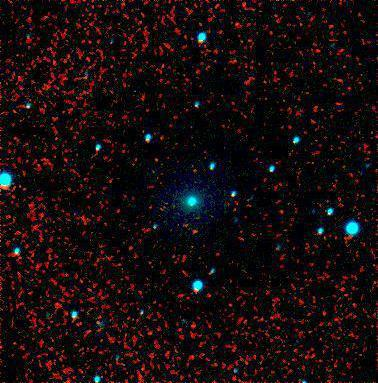star: (184, 216, 214, 246)
